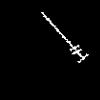treble_crochet: (41, 12, 87, 62)
